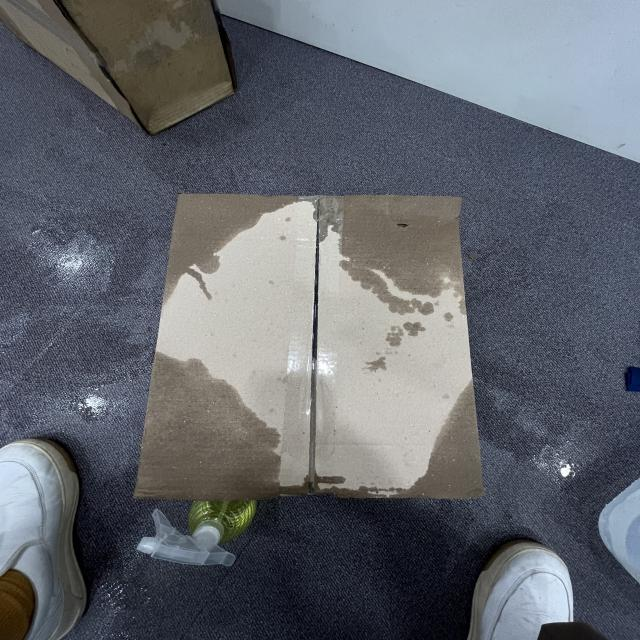wet: (130, 354, 285, 496), (332, 185, 473, 304), (165, 186, 302, 294), (416, 389, 496, 494)
